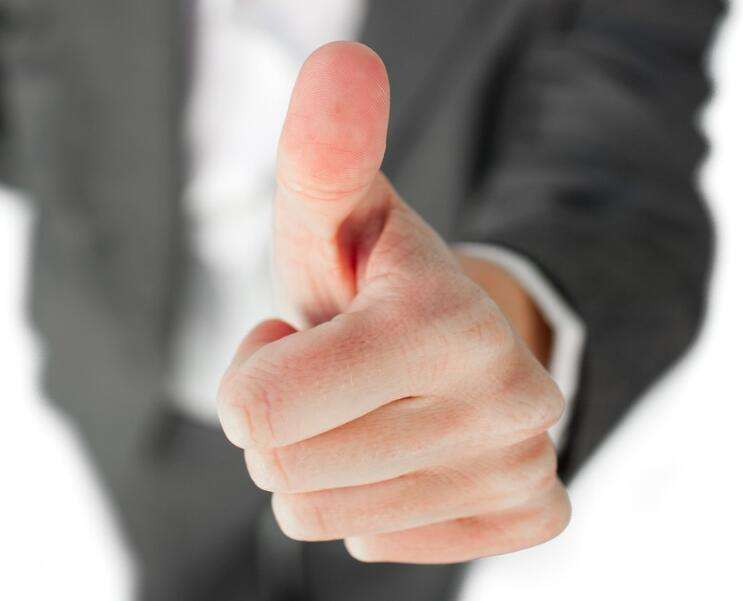no-phone: (212, 32, 577, 573)
